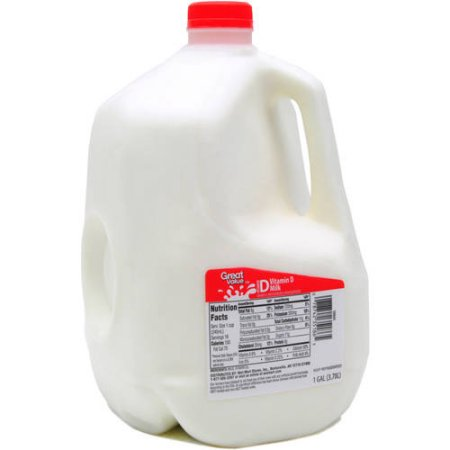milk: (93, 4, 372, 449)
